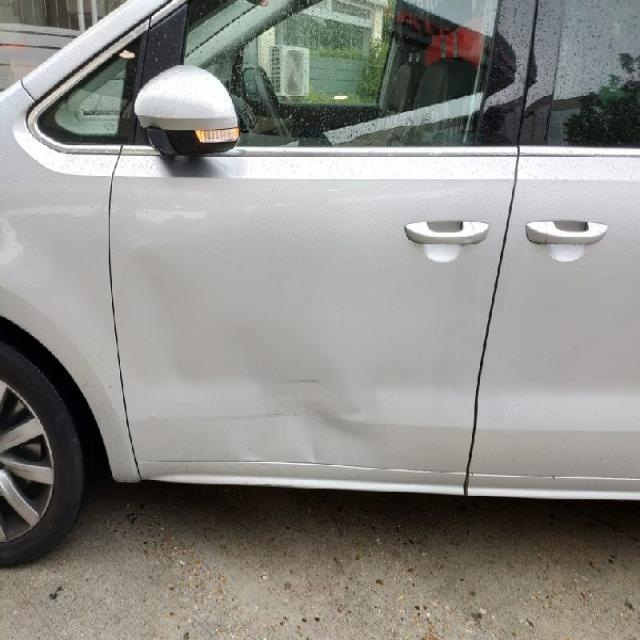porte-avant: (118, 2, 538, 482)
